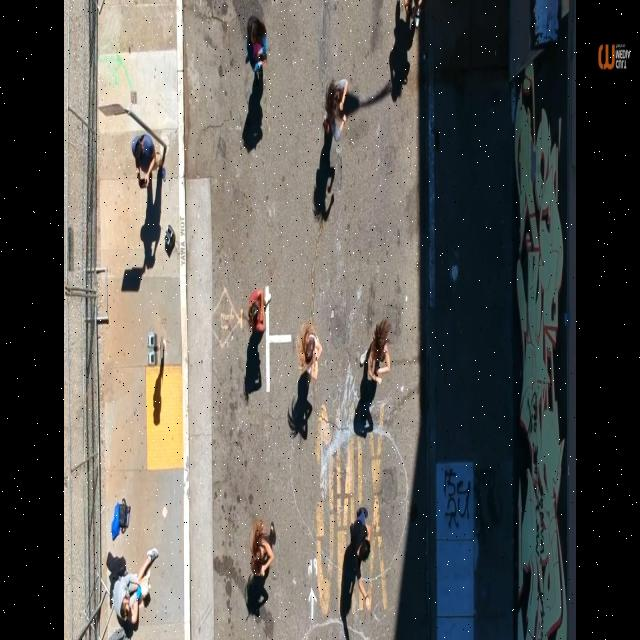humans: (112, 541, 161, 629), (358, 317, 394, 388), (130, 128, 169, 193), (322, 69, 354, 145), (249, 515, 280, 578), (297, 311, 324, 383), (243, 278, 276, 336), (350, 500, 373, 581), (244, 11, 270, 75)
